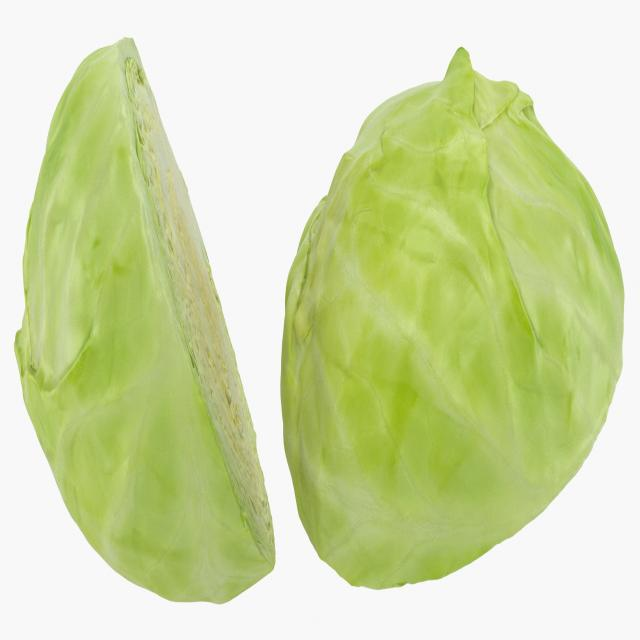cabbage: (285, 44, 628, 592)
haft-cabbage: (8, 26, 279, 618)
